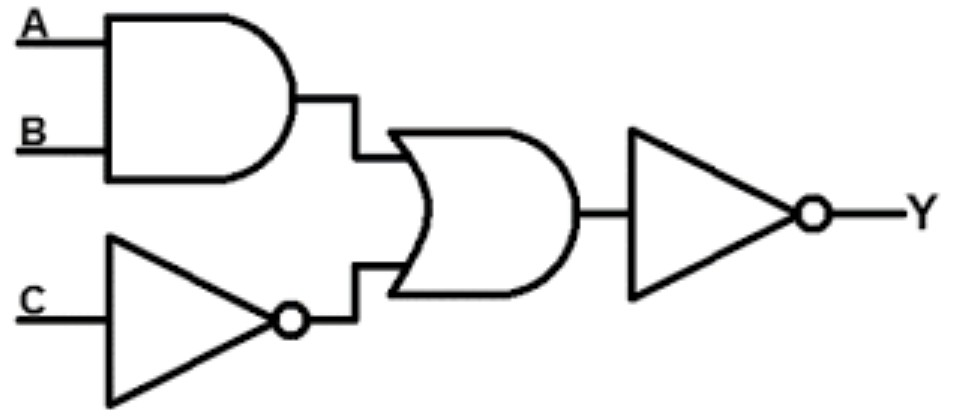and gate: (100, 10, 310, 188)
not gate: (621, 122, 840, 310), (101, 229, 318, 412)
or gate: (381, 125, 586, 303)
